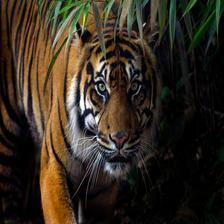tiger: (0, 0, 169, 224)
